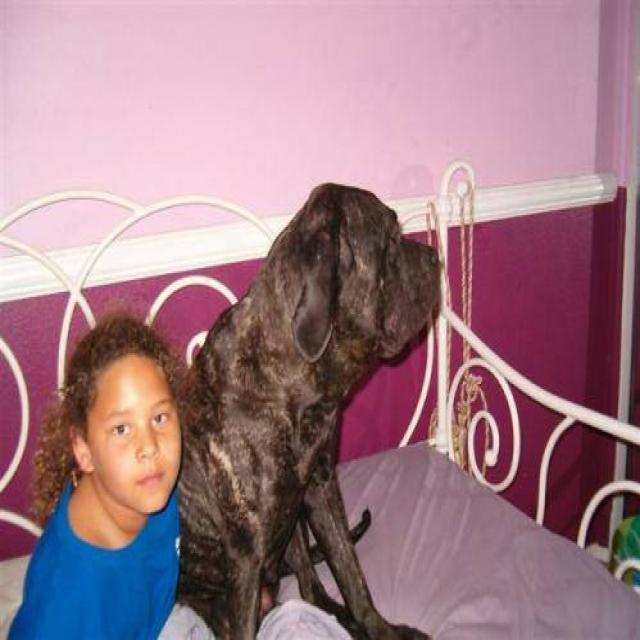dog: (170, 179, 442, 638)
